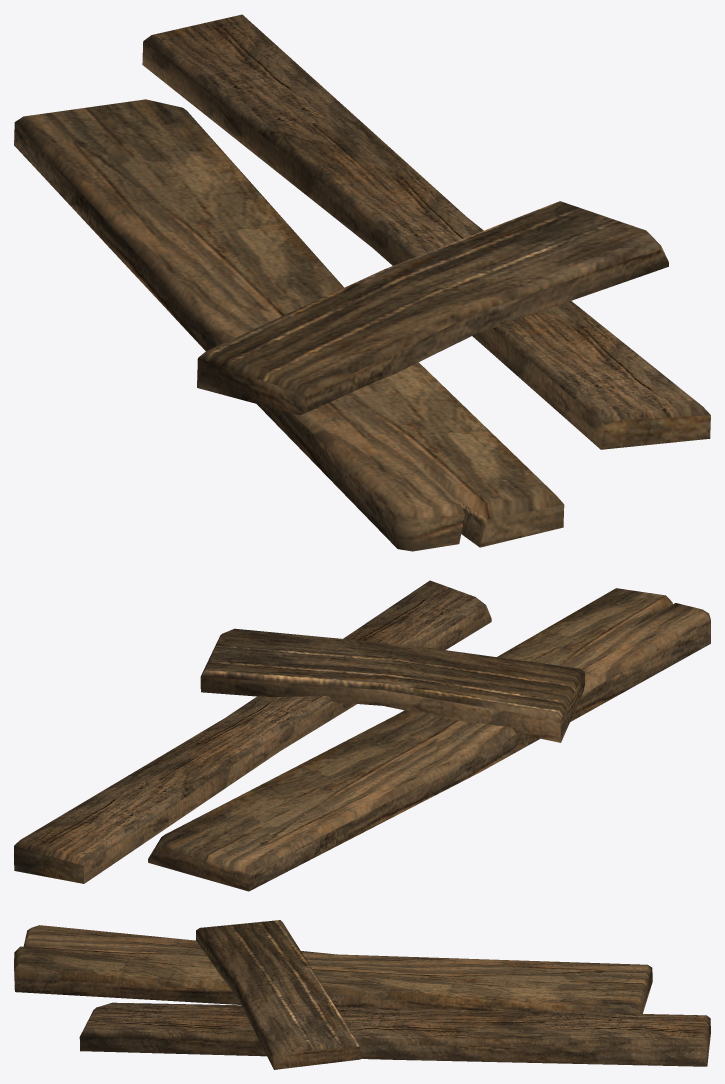
The model's file is boards.obj.
The picture shows the model from 3 angles, top to bottom: view 1: azimuth 30°, elevation 25°; view 2: azimuth 150°, elevation 25°; view 3: azimuth 270°, elevation 25°; orthographic projection. The views are drawn at different scales.
Parts seen in each view (by area): view 1: boards.obj; view 2: boards.obj; view 3: boards.obj.
Part boxes in pixels (box(x1,y1,x2,y2)): boards.obj: box(14, 14, 710, 551); boards.obj: box(14, 580, 710, 891); boards.obj: box(14, 920, 710, 1069).
Bounding box in the file's own units: 23.16 × 3.31 × 49.2.
1 material, 1 textured.
